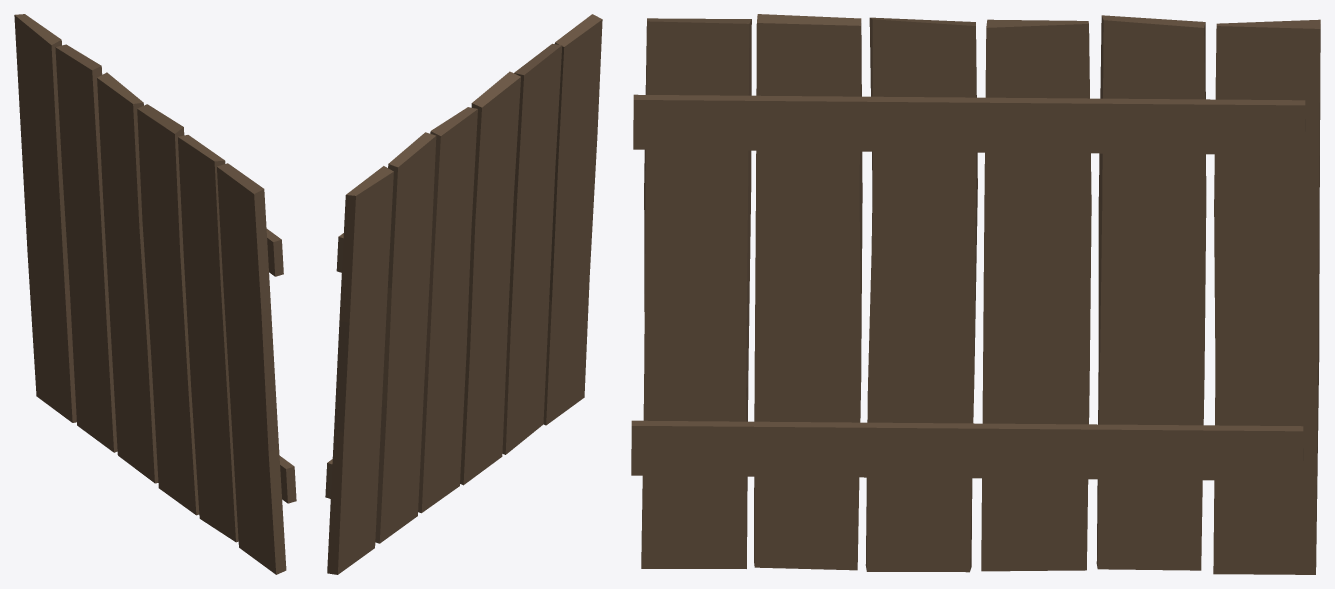
File: Wood_Fence_1.fbx
3 views of the same model, side by side, from view 1: azimuth 30°, elevation 25°; view 2: azimuth 150°, elevation 25°; view 3: azimuth 270°, elevation 25° (orthographic). The views are drawn at different scales.
Parts seen in each view (by area): view 1: door; view 2: door; view 3: door.
Part boxes in pixels (left/top/right/bottom): door: left=14, top=14, right=296, bottom=574; door: left=325, top=14, right=602, bottom=574; door: left=631, top=14, right=1320, bottom=574.
Size of the model in its own units: 11.15 by 103 by 119.
